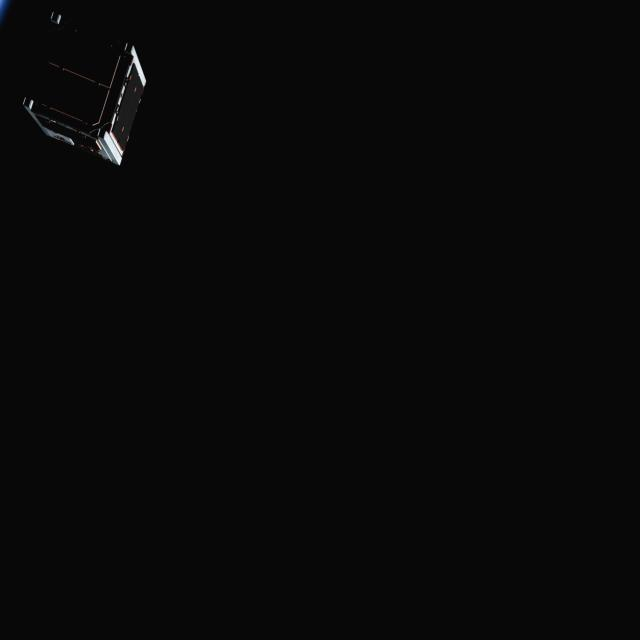satellite: (12, 8, 152, 167)
